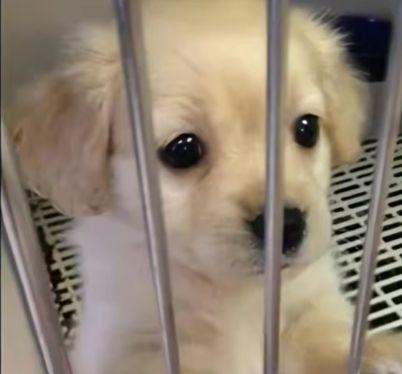puppy-dog: (9, 2, 392, 374)
